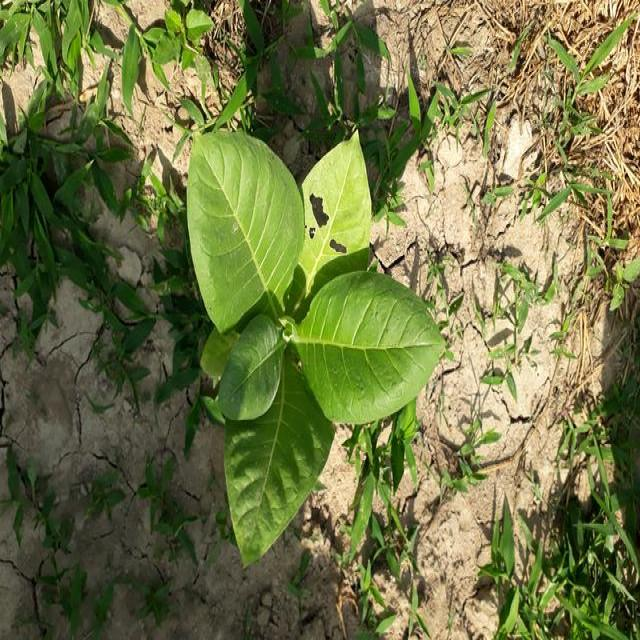crop: (186, 120, 444, 554)
